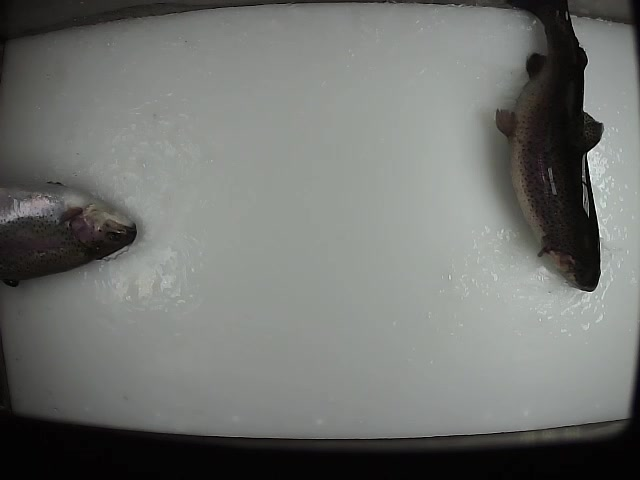fish: (492, 1, 606, 295), (1, 180, 139, 287)
